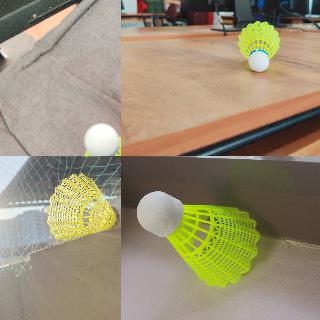shuttlecock: (136, 191, 260, 287), (46, 173, 120, 241), (238, 20, 280, 72), (80, 123, 120, 155)
